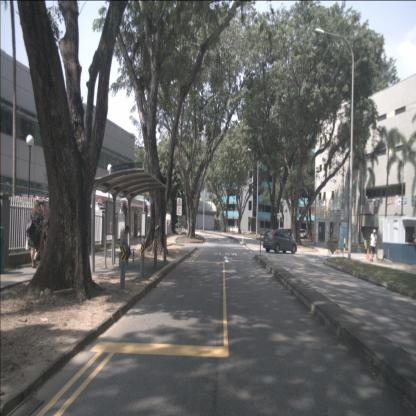human-pedestrian-adult: (27, 200, 45, 269), (120, 226, 131, 266), (370, 228, 377, 262)
movable_object-trafficcone: (366, 247, 370, 261)
vehicle-car: (263, 229, 297, 254), (276, 228, 292, 238), (294, 228, 307, 240), (260, 228, 271, 236)
